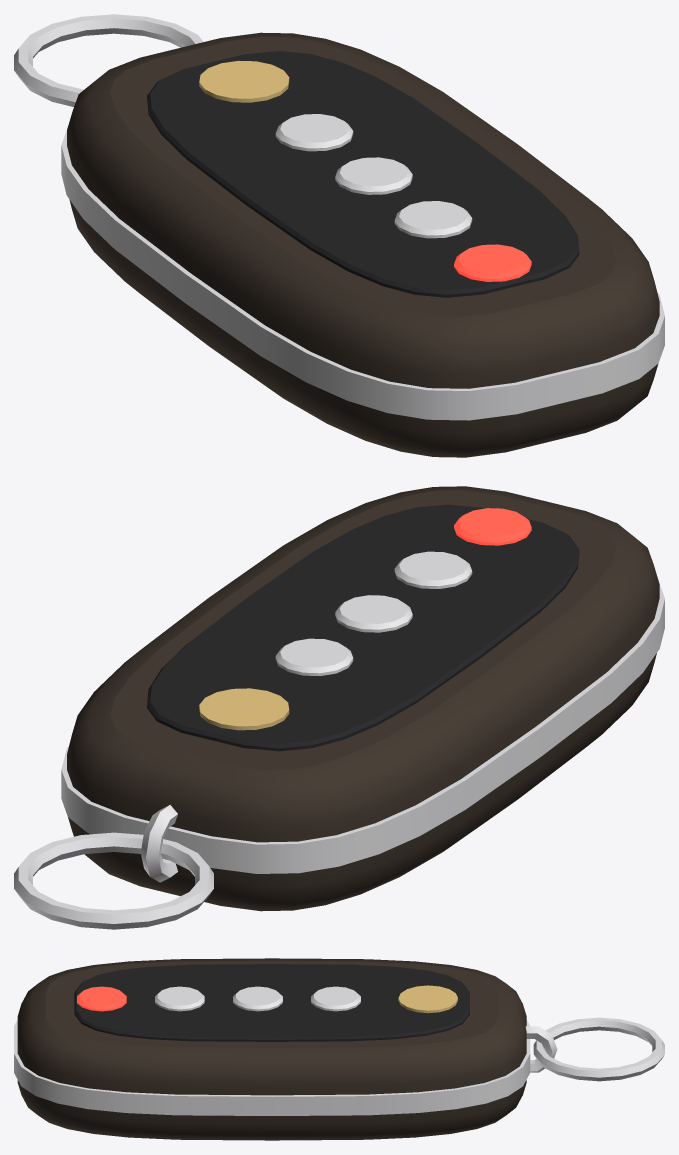
Rendered from nz_keyfob_luxury.glb.
The picture shows the model from 3 angles, top to bottom: view 1: azimuth 30°, elevation 25°; view 2: azimuth 150°, elevation 25°; view 3: azimuth 270°, elevation 25°; orthographic projection. The views are drawn at different scales.
Visible parts, largest first — view 1: nz_keyfob_luxury; view 2: nz_keyfob_luxury; view 3: nz_keyfob_luxury.
Part boxes in pixels (x1,y1,x2,y2): nz_keyfob_luxury: (14,14,664,457); nz_keyfob_luxury: (14,486,664,929); nz_keyfob_luxury: (14,958,664,1140).
Size of the model in its own units: 0.038 by 0.0153 by 0.0917.
